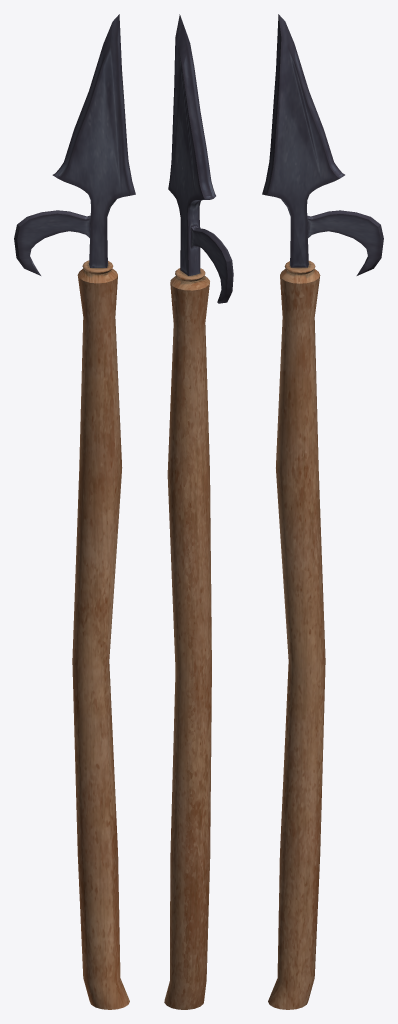
File: Spear_01.fbx
3 views of the same model, side by side, from view 1: azimuth 90°, elevation 25°; view 2: azimuth 210°, elevation 25°; view 3: azimuth 270°, elevation 25° (orthographic).
Visible parts, largest first — view 1: Spear_01; view 2: Spear_01; view 3: Spear_01.
Boxes of the visible parts, x1,y1,x2,y2 form: Spear_01: (14,14,135,1009); Spear_01: (164,14,233,1009); Spear_01: (262,14,383,1009).
Bounding box in the file's own units: 3.9 × 99.1 × 11.09.
2 materials, 2 textured.
